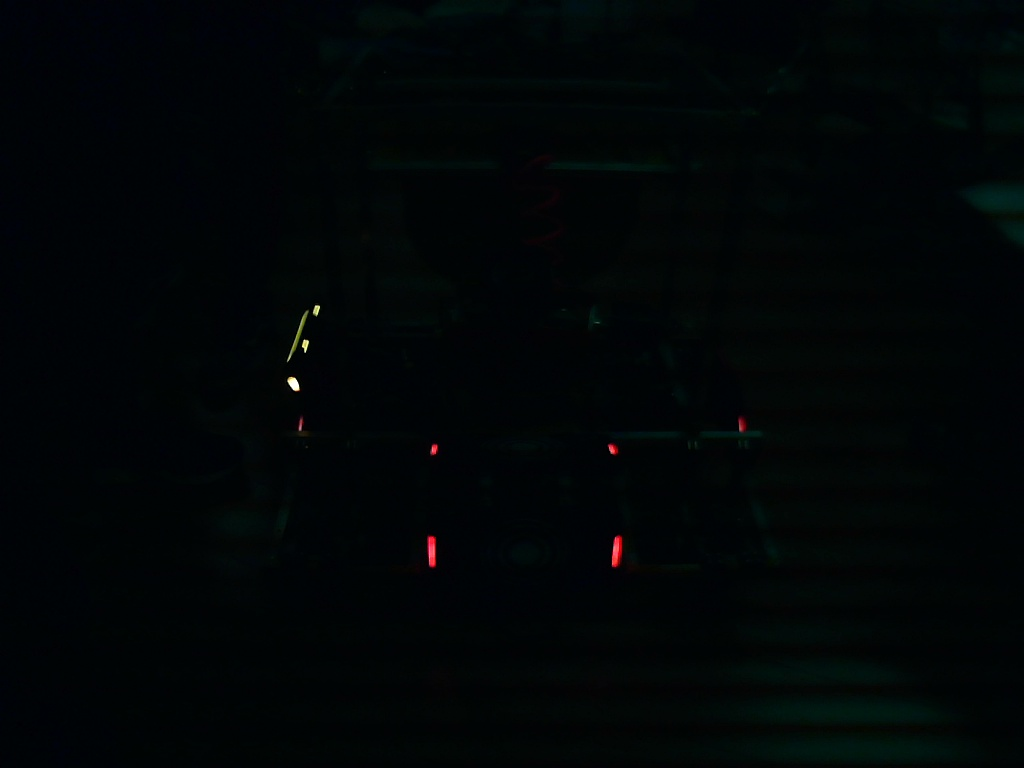lamp: (424, 529, 441, 573), (607, 529, 625, 570)
